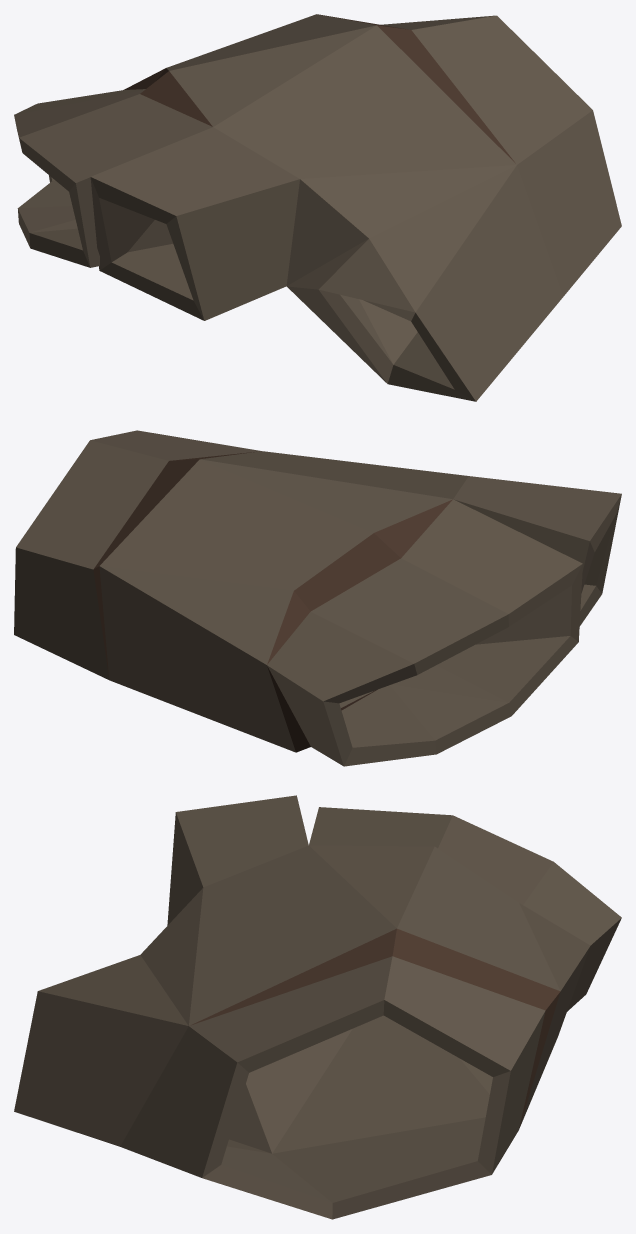
Rendered from Chr_HandRight_Female_04_Drop.fbx.
3 views of the same model, one above another, from view 1: azimuth 30°, elevation 25°; view 2: azimuth 150°, elevation 25°; view 3: azimuth 270°, elevation 25° (orthographic). The views are drawn at different scales.
Parts seen in each view (by area): view 1: Chr_HandRight_Female_04_Static; view 2: Chr_HandRight_Female_04_Static; view 3: Chr_HandRight_Female_04_Static.
Boxes of the visible parts, x1,y1,x2,y2 form: Chr_HandRight_Female_04_Static: (14, 14, 621, 401); Chr_HandRight_Female_04_Static: (14, 430, 621, 766); Chr_HandRight_Female_04_Static: (14, 795, 621, 1219).
Bounding box in the file's own units: 16.08 × 7.77 × 16.77.
